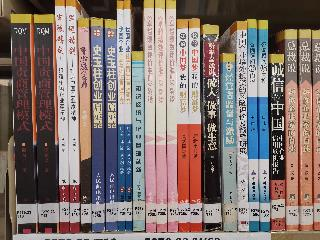book-spine: (9, 13, 38, 234), (32, 14, 61, 233), (202, 26, 222, 234), (162, 3, 179, 233), (75, 17, 93, 232), (64, 1, 80, 233), (186, 19, 203, 234), (55, 1, 70, 234), (282, 30, 299, 231), (297, 29, 313, 231), (245, 18, 260, 232), (269, 54, 287, 232), (103, 19, 118, 232), (235, 20, 250, 232), (91, 17, 105, 233), (143, 1, 156, 233), (154, 2, 167, 233), (222, 53, 238, 231), (177, 18, 190, 233), (257, 20, 270, 231), (131, 51, 145, 232), (123, 2, 134, 231), (116, 1, 125, 232), (312, 30, 320, 231)
